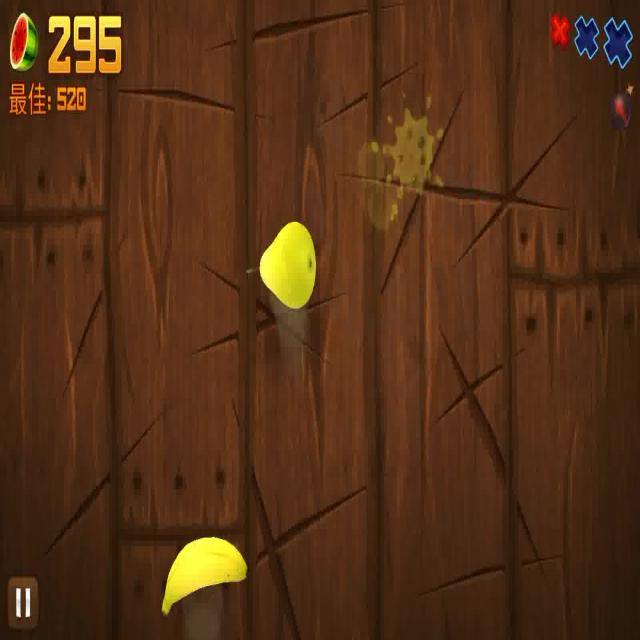fruit: (161, 533, 249, 615), (260, 218, 317, 308)
